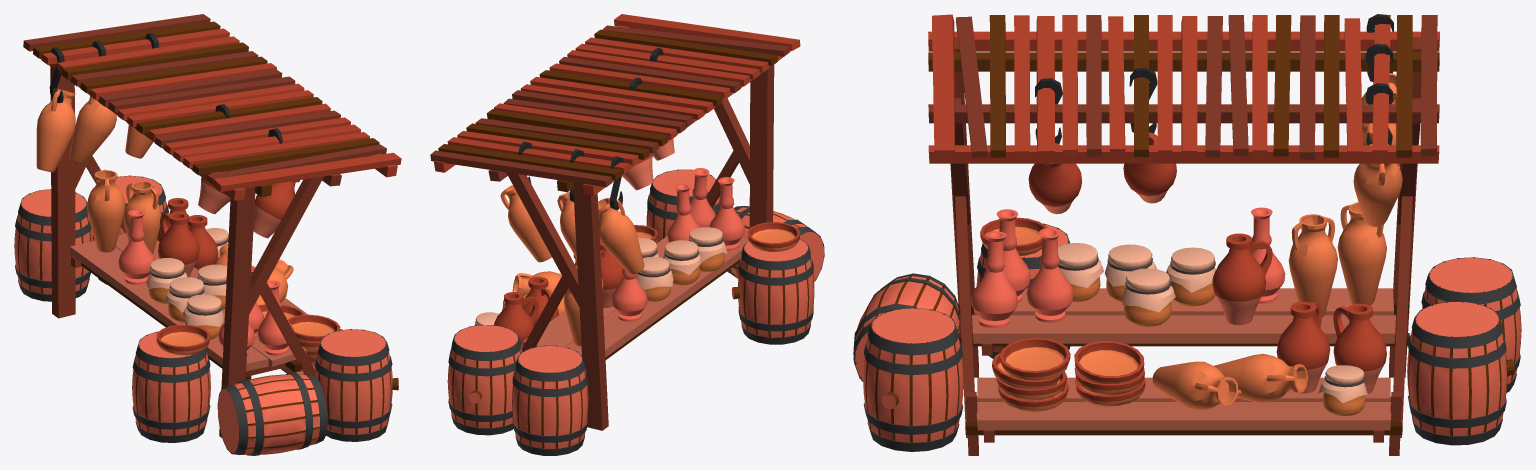
The model's file is Market.glb.
3 renders of one model, left to right at view 1: azimuth 30°, elevation 25°; view 2: azimuth 150°, elevation 25°; view 3: azimuth 270°, elevation 25°, orthographic. The views are drawn at different scales.
Visible parts, largest first — view 1: Cylinder.054; view 2: Cylinder.054; view 3: Cylinder.054.
Boxes of the visible parts, x1,y1,x2,y2 form: Cylinder.054: (14, 14, 401, 455); Cylinder.054: (430, 14, 824, 455); Cylinder.054: (853, 14, 1521, 455).
Size of what is drawn, in the model's own units: 1.28 by 1.46 by 2.54.
Materials: 1 (1 with a texture image).
